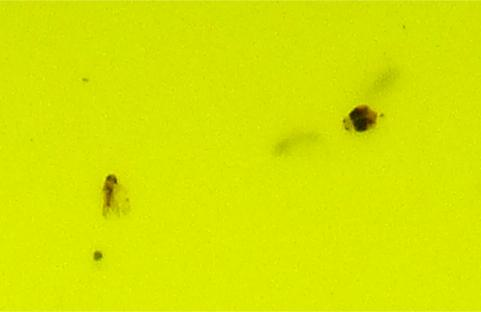Coleoptera: (340, 100, 381, 134)
Hemiptera: (100, 171, 121, 212)
